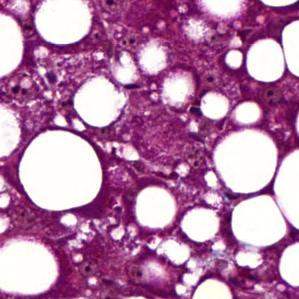steatosis: (24, 121, 105, 212)
